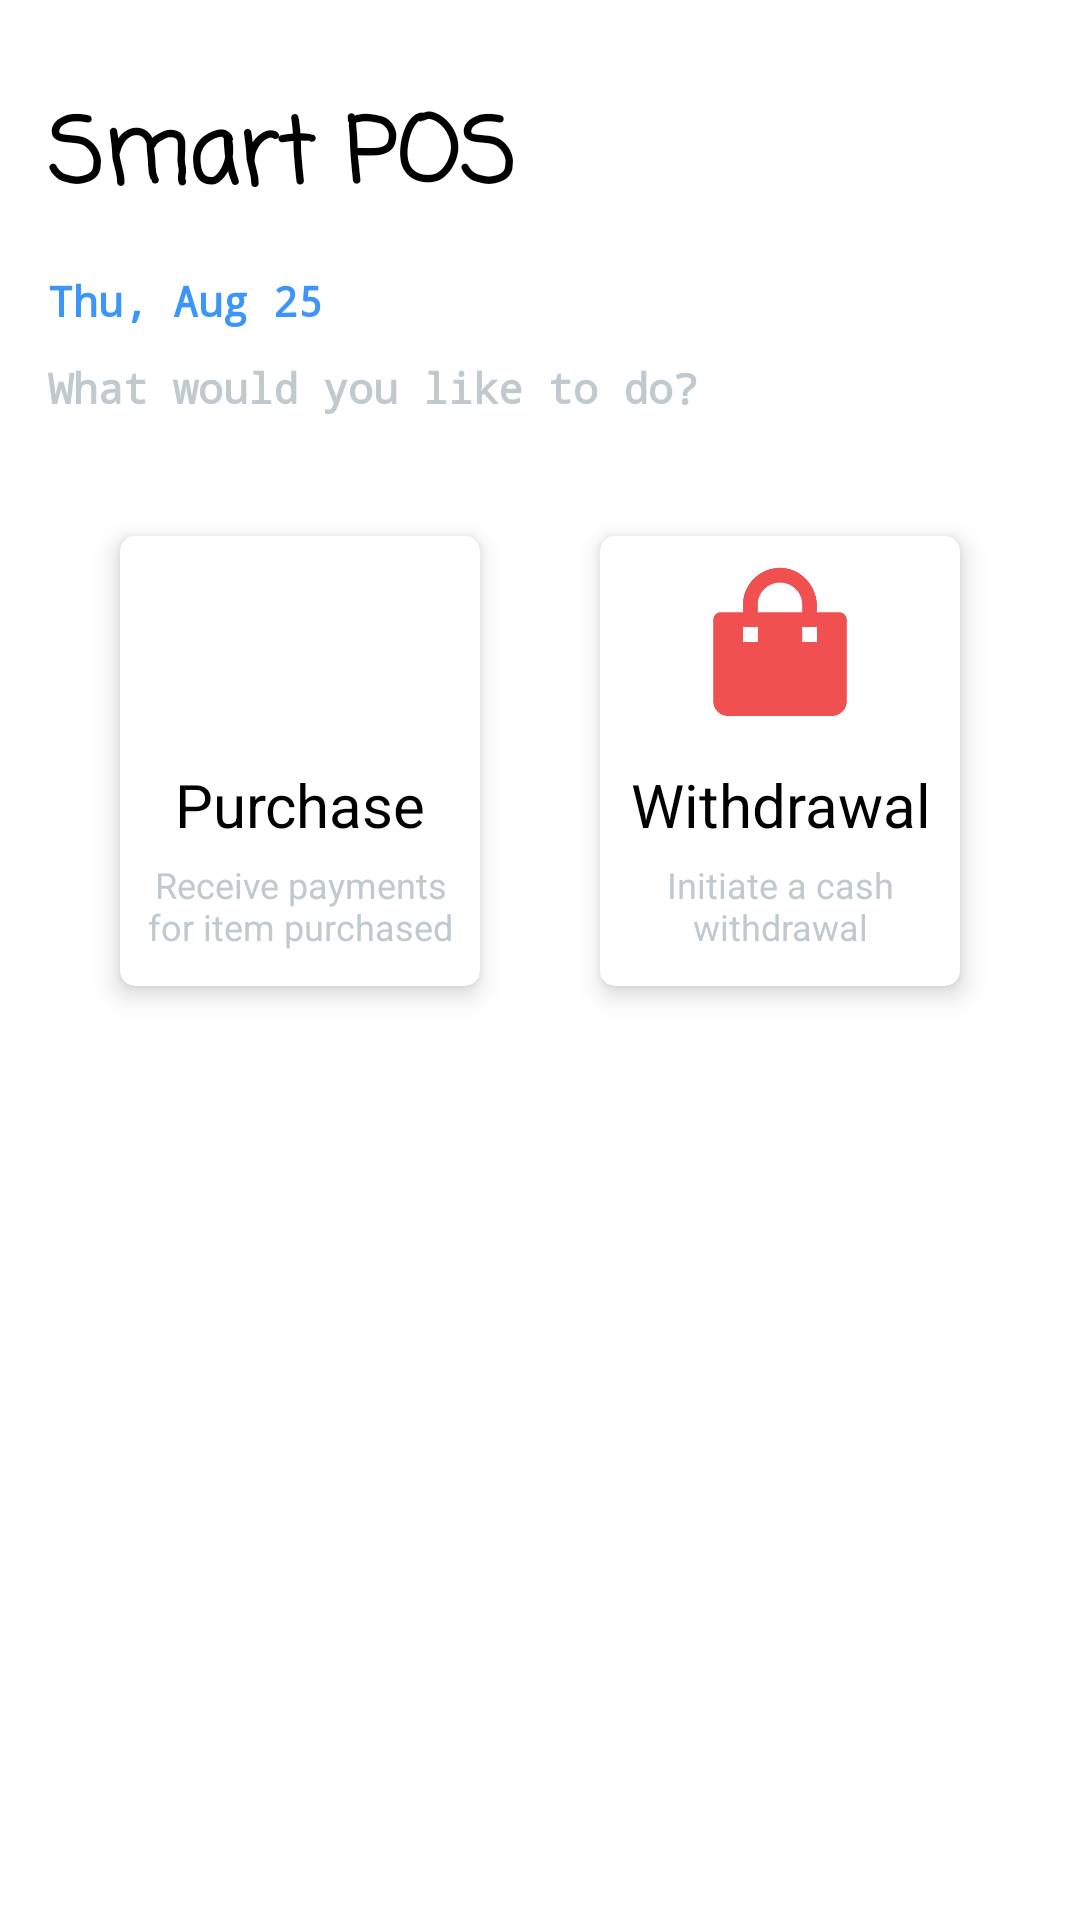

Icons on this 1080 × 1920 Android screen, each with its box as rect(x1, y1, x2, y2):
purchase: rect(713, 567, 847, 716)
